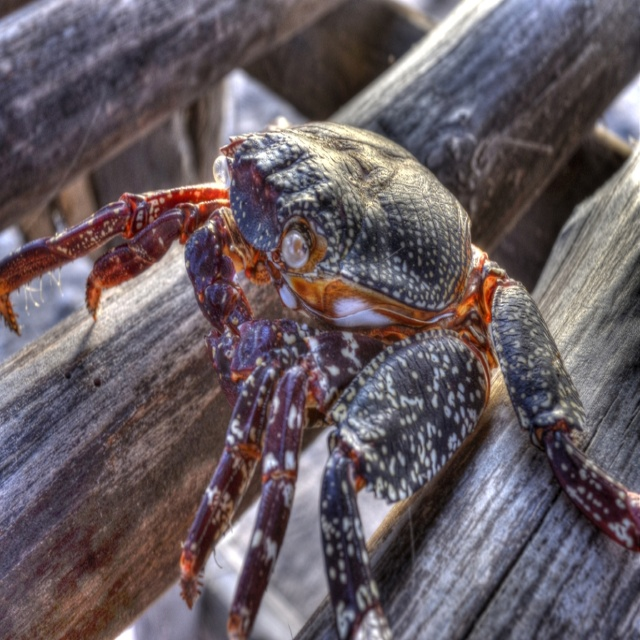Crab: (0, 120, 640, 639)
